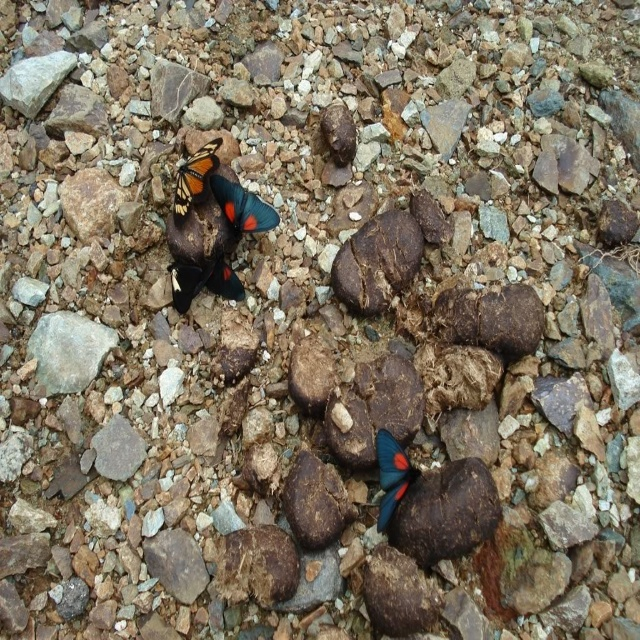Butterfly: (376, 425, 430, 534), (209, 182, 284, 236), (176, 137, 219, 220), (173, 263, 213, 311), (206, 260, 247, 305)
